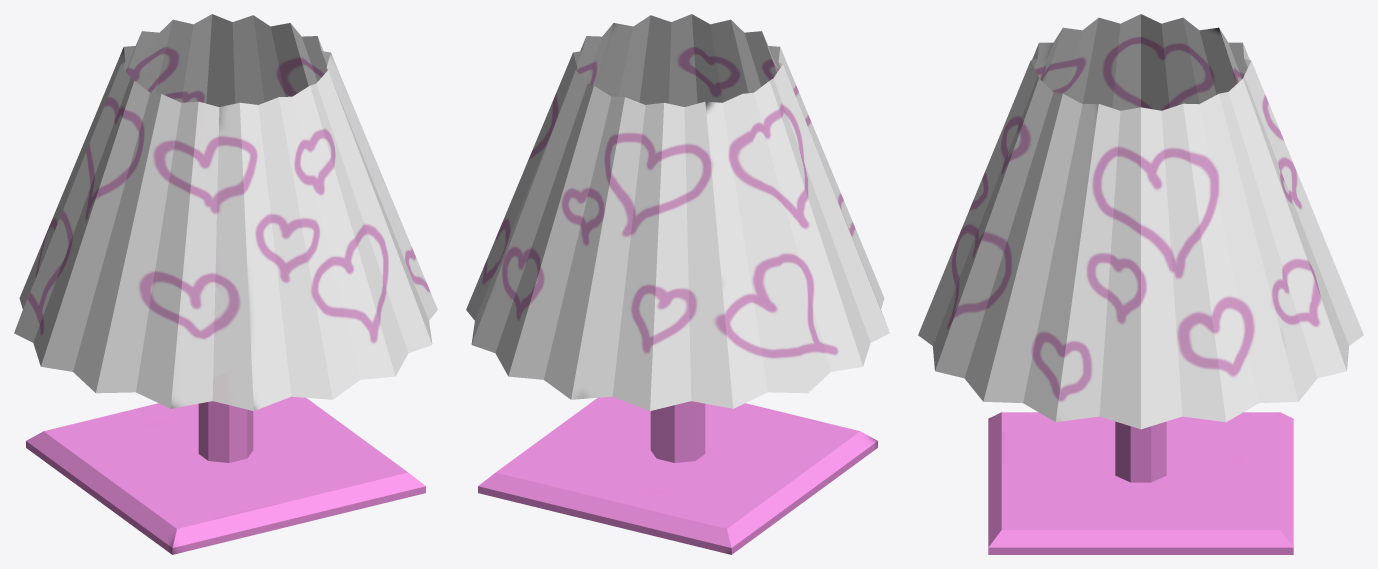
File: lampka.fbx
3 views of the same model, side by side, from view 1: azimuth 30°, elevation 25°; view 2: azimuth 150°, elevation 25°; view 3: azimuth 270°, elevation 25° (orthographic). The views are drawn at different scales.
Visible parts, largest first — view 1: Cylinder.001; view 2: Cylinder.001; view 3: Cylinder.001.
Boxes of the visible parts, x1,y1,x2,y2 form: Cylinder.001: (14,14,437,554); Cylinder.001: (466,14,889,554); Cylinder.001: (918,14,1363,554).
Size of the model in its own units: 227 by 242 by 227.
1 material, 1 textured.
